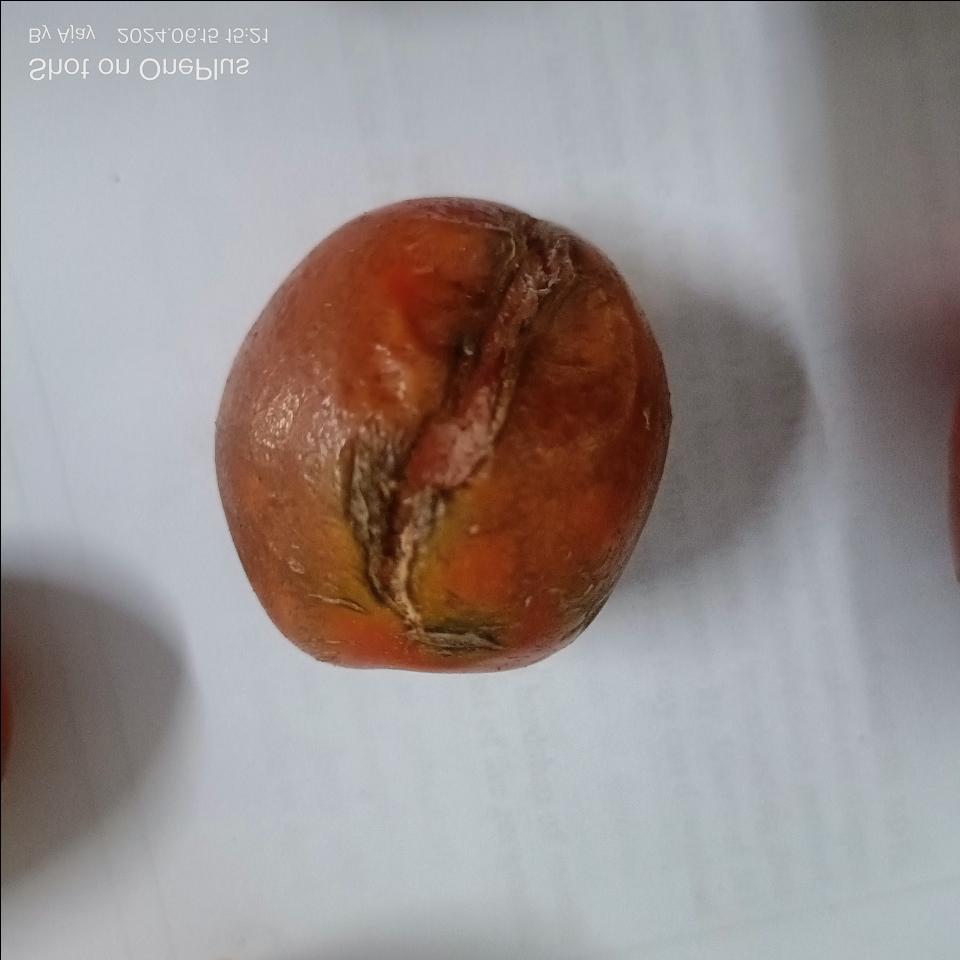Cracking: (322, 192, 573, 662)
